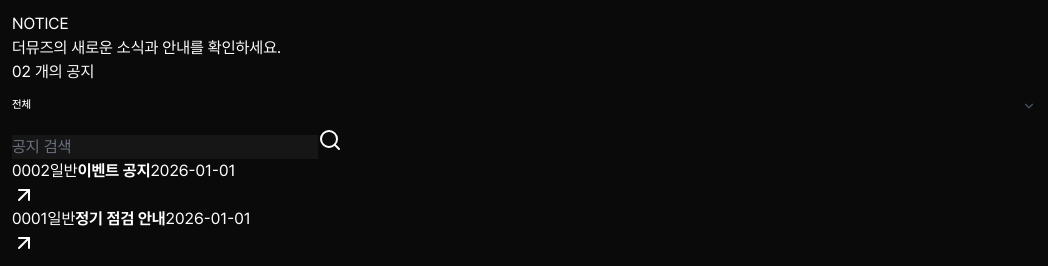
NoticeBoard › filters notices by search input
The image size is (1048, 266).
Click the button named "공지 검색" at [330, 140], box x1=318 y1=128 x2=342 y2=152
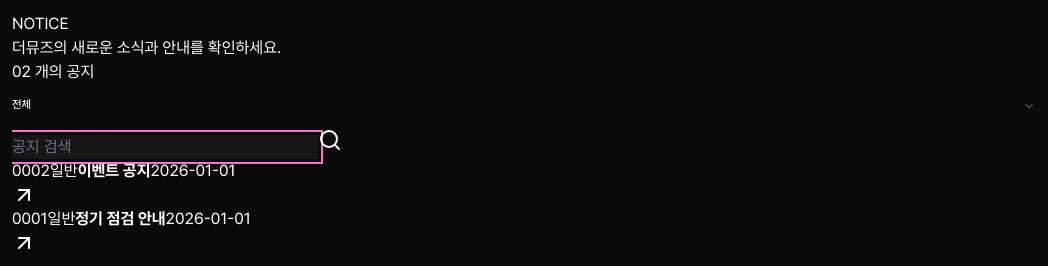
Type "이벤트" into the field with placeholder "공지 검색" at [165, 147], box x1=12 y1=135 x2=318 y2=159
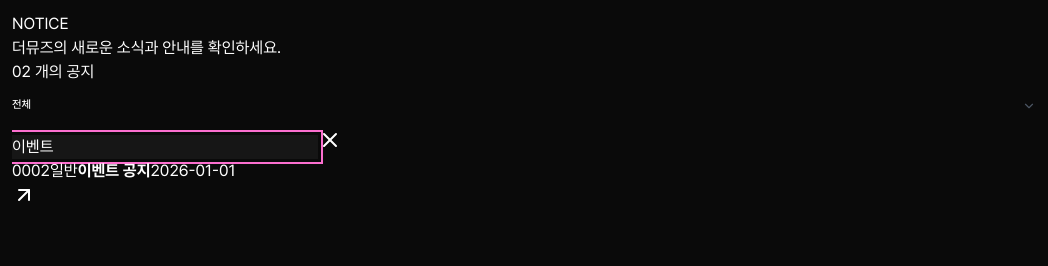
Expected: the link "이벤트 공지" is shown, x1=12 y1=161 x2=236 y2=207
Expected: the link "정기 점검" is gone
